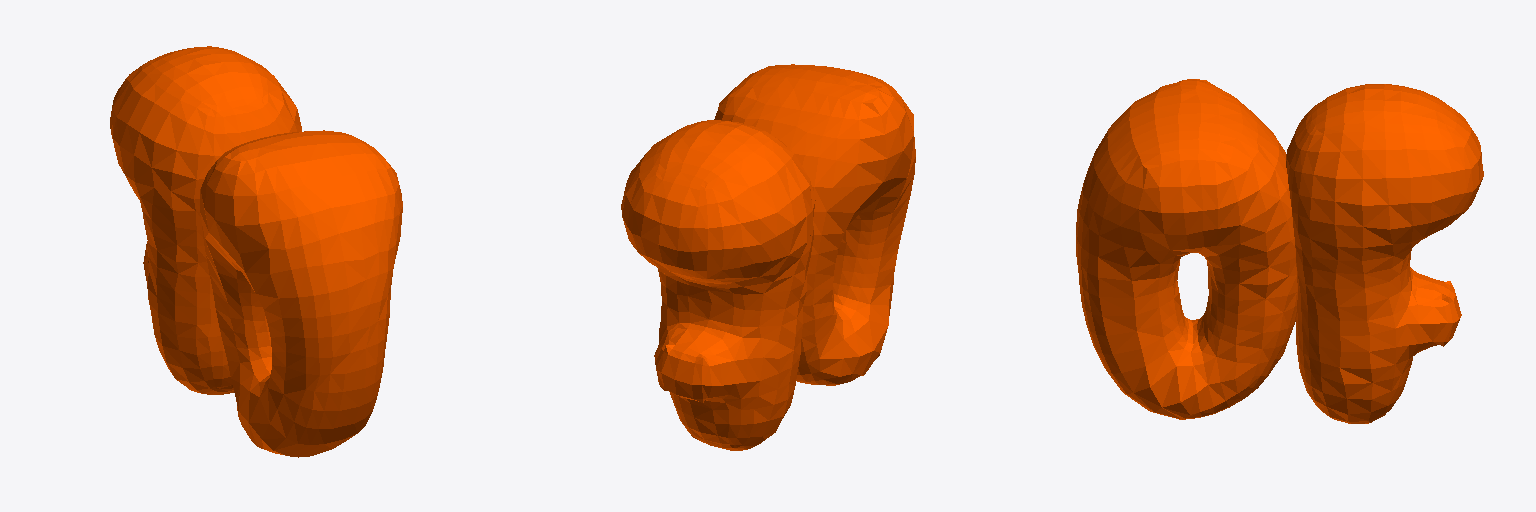
The picture shows the model from 3 angles: view 1: azimuth 30°, elevation 25°; view 2: azimuth 150°, elevation 25°; view 3: azimuth 270°, elevation 25°; orthographic projection.
Parts seen in each view (by area): view 1: _0f:of1; view 2: _0f:of1; view 3: _0f:of1.
Part boxes in pixels (x1,y1,x2,y2): _0f:of1: (110,46,402,457); _0f:of1: (621,64,915,450); _0f:of1: (1076,79,1483,423).
Size of the model in its own units: 0.1662 by 0.2914 by 0.3331.